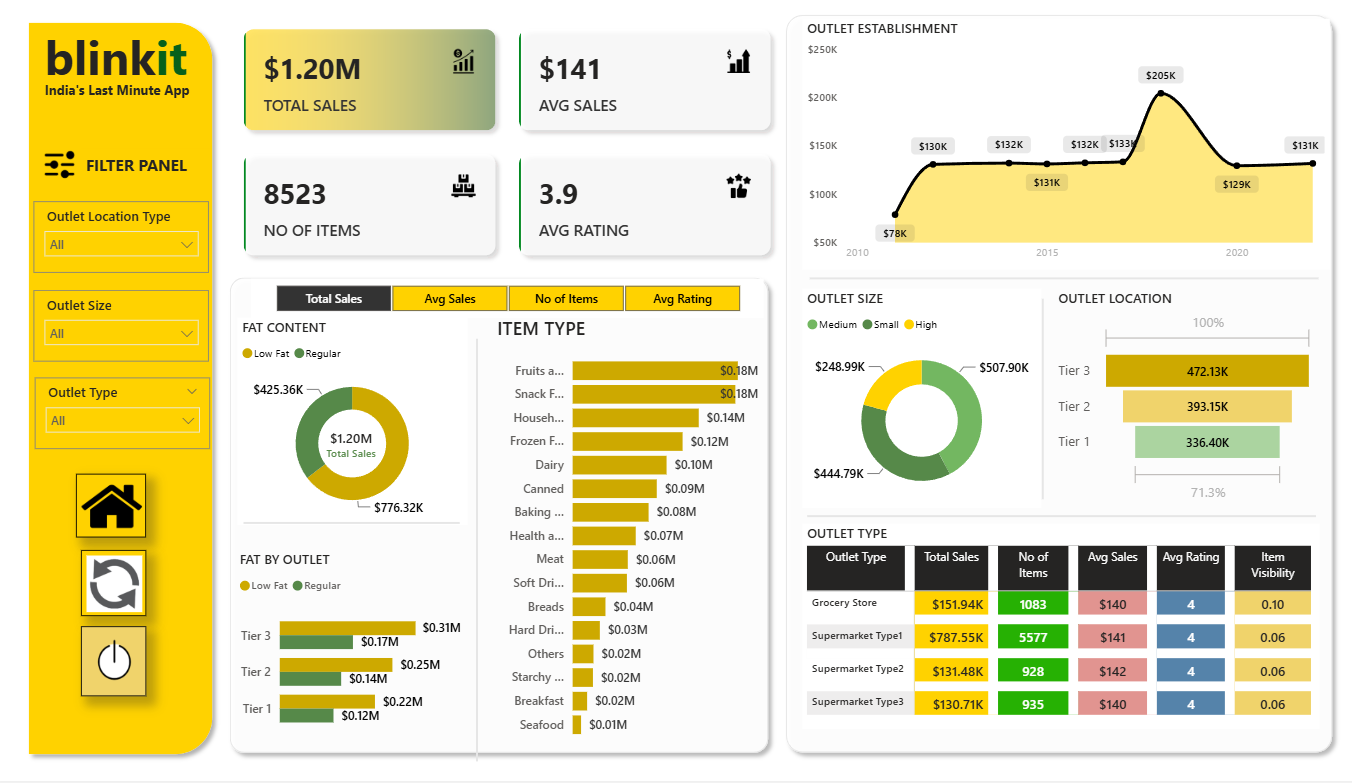

What the dashboard file says about the page in this screenshot:
{"tool":"powerbi","page":{"name":"Page 1","canvas":[1400,800],"ordinal":0},"visuals":[{"type":"shape","box":[28.8,18.8,205,762.5],"z":0},{"type":"textbox","box":[50,24.3,171.4,94.3],"z":1000},{"type":"textbox","box":[50,82.9,171.4,35.7],"z":2000},{"type":"cardVisual","fields":{"Data":["BlinkIT Grocery Data.Total Sales","BlinkIT Grocery Data.Avg Sales","BlinkIT Grocery Data.No of Items","BlinkIT Grocery Data.Avg Rating"]},"box":[240,17.5,570,265],"z":3000},{"type":"shape","box":[234.3,278.6,565.7,501.4],"z":4000},{"type":"donutChart","title":"FAT CONTENT","fields":{"Y":["BlinkIT Grocery Data.Total Sales"],"Category":["BlinkIT Grocery Data.Item Fat Content"]},"box":[250,328.6,234.3,211.4],"z":5000},{"type":"slicer","fields":{"Values":["Metrics.Metrics"]},"box":[264.3,288.6,521.4,40],"z":6000},{"type":"cardVisual","fields":{"Data":["BlinkIT Grocery Data.Total Sales"]},"box":[318.3,424.2,97.5,58.3],"z":7000},{"type":"clusteredBarChart","title":"FAT BY OUTLET","fields":{"Y":["BlinkIT Grocery Data.Total Sales"],"Category":["BlinkIT Grocery Data.Outlet Location Type"],"Series":["BlinkIT Grocery Data.Item Fat Content"]},"box":[247.5,565,235,196.7],"z":8000},{"type":"shape","box":[257.1,521.4,220,31.4],"z":9000},{"type":"shape","box":[480,350,30,430],"z":10000},{"type":"barChart","title":"ITEM TYPE","fields":{"Y":["BlinkIT Grocery Data.Total Sales"],"Category":["BlinkIT Grocery Data.Item Type"]},"box":[510,325.7,275.7,441.4],"z":11000},{"type":"shape","box":[800,11.4,573.6,768.2],"z":12000},{"type":"lineChart","title":"OUTLET ESTABLISHMENT","fields":{"Y":["BlinkIT Grocery Data.Total Sales"],"Category":["BlinkIT Grocery Data.Outlet Establishment Year"]},"box":[825.8,24.2,536.7,255],"z":13000},{"type":"shape","box":[833.6,277.1,517.9,22.1],"z":14000},{"type":"donutChart","title":"OUTLET SIZE","fields":{"Y":["BlinkIT Grocery Data.Total Sales"],"Category":["BlinkIT Grocery Data.Outlet Size"]},"box":[825.8,299.2,243.3,223.3],"z":15000},{"type":"shape","box":[1060,308.6,21.4,204.3],"z":16000},{"type":"funnel","title":"OUTLET LOCATION","fields":{"Category":["BlinkIT Grocery Data.Outlet Location Type"],"Y":["Sum(BlinkIT Grocery Data.Sales)"]},"box":[1081.4,299.3,270,222.1],"z":17000},{"type":"shape","box":[830.7,522.1,517.9,15],"z":18000},{"type":"pivotTable","title":"OUTLET TYPE","fields":{"Rows":["BlinkIT Grocery Data.Outlet Type"],"Values":["BlinkIT Grocery Data.Total Sales","BlinkIT Grocery Data.No of Items","BlinkIT Grocery Data.Avg Sales","BlinkIT Grocery Data.Avg Rating","Avg(BlinkIT Grocery Data.Item Visibility)"]},"box":[825.8,537.5,526.7,209.2],"z":19000},{"type":"slicer","fields":{"Values":["BlinkIT Grocery Data.Outlet Location Type"]},"box":[43.8,210,178.8,72.5],"z":20000},{"type":"slicer","fields":{"Values":["BlinkIT Grocery Data.Outlet Size"]},"box":[43.8,300,178.8,72.5],"z":21000},{"type":"slicer","fields":{"Values":["BlinkIT Grocery Data.Outlet Type"]},"box":[45,388.8,178.8,72.5],"z":22000},{"type":"qnaVisual","box":[1291.7,787.5,81.7,12.5],"z":23000},{"type":"textbox","box":[91.2,156.2,131.2,42.5],"z":24000},{"type":"image","box":[86.2,487.5,71.2,65],"z":25000},{"type":"image","box":[45,151.2,50,42.5],"z":26000},{"type":"image","box":[91.2,565,66.2,67.5],"z":27000},{"type":"image","box":[91.2,642.5,66.2,71.2],"z":28000}]}

Visuals, with their boxes in screenshot pixels (x1, y1, x2, y2), scaled from the page's 1400x800 canvas onto the 1352x783 screenshot:
shape: [x1=28, y1=18, x2=226, y2=765]
textbox: [x1=48, y1=24, x2=214, y2=116]
textbox: [x1=48, y1=81, x2=214, y2=116]
cardVisual - BlinkIT Grocery Data.Total Sales x BlinkIT Grocery Data.Avg Sales: [x1=232, y1=17, x2=782, y2=276]
shape: [x1=226, y1=273, x2=773, y2=763]
"FAT CONTENT" donutChart: [x1=241, y1=322, x2=468, y2=529]
slicer - Metrics.Metrics: [x1=255, y1=282, x2=759, y2=322]
cardVisual - BlinkIT Grocery Data.Total Sales: [x1=307, y1=415, x2=402, y2=472]
"FAT BY OUTLET" clusteredBarChart: [x1=239, y1=553, x2=466, y2=746]
shape: [x1=248, y1=510, x2=461, y2=541]
shape: [x1=464, y1=343, x2=493, y2=763]
"ITEM TYPE" barChart: [x1=493, y1=319, x2=759, y2=751]
shape: [x1=773, y1=11, x2=1327, y2=763]
"OUTLET ESTABLISHMENT" lineChart: [x1=797, y1=24, x2=1316, y2=273]
shape: [x1=805, y1=271, x2=1305, y2=293]
"OUTLET SIZE" donutChart: [x1=797, y1=293, x2=1032, y2=511]
shape: [x1=1024, y1=302, x2=1044, y2=502]
"OUTLET LOCATION" funnel: [x1=1044, y1=293, x2=1305, y2=510]
shape: [x1=802, y1=511, x2=1302, y2=526]
"OUTLET TYPE" pivotTable: [x1=797, y1=526, x2=1306, y2=731]
slicer - BlinkIT Grocery Data.Outlet Location Type: [x1=42, y1=206, x2=215, y2=276]
slicer - BlinkIT Grocery Data.Outlet Size: [x1=42, y1=294, x2=215, y2=365]
slicer - BlinkIT Grocery Data.Outlet Type: [x1=43, y1=381, x2=216, y2=451]
qnaVisual: [x1=1247, y1=771, x2=1326, y2=782]
textbox: [x1=88, y1=153, x2=215, y2=194]
image: [x1=83, y1=477, x2=152, y2=541]
image: [x1=43, y1=148, x2=92, y2=190]
image: [x1=88, y1=553, x2=152, y2=619]
image: [x1=88, y1=629, x2=152, y2=699]
